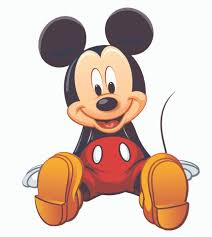mickey: (20, 6, 201, 231)
